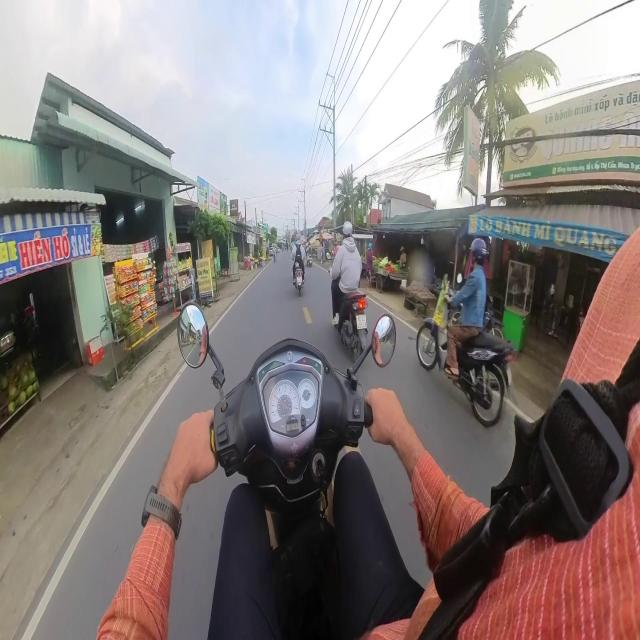motorcycle: (178, 304, 395, 639), (454, 331, 514, 427), (340, 293, 368, 359), (294, 266, 303, 295), (306, 254, 312, 266)
